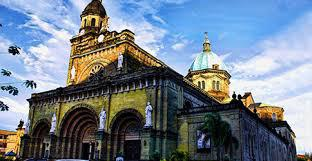manila_cathedral_church_intramuros_manila: (27, 1, 190, 161)
